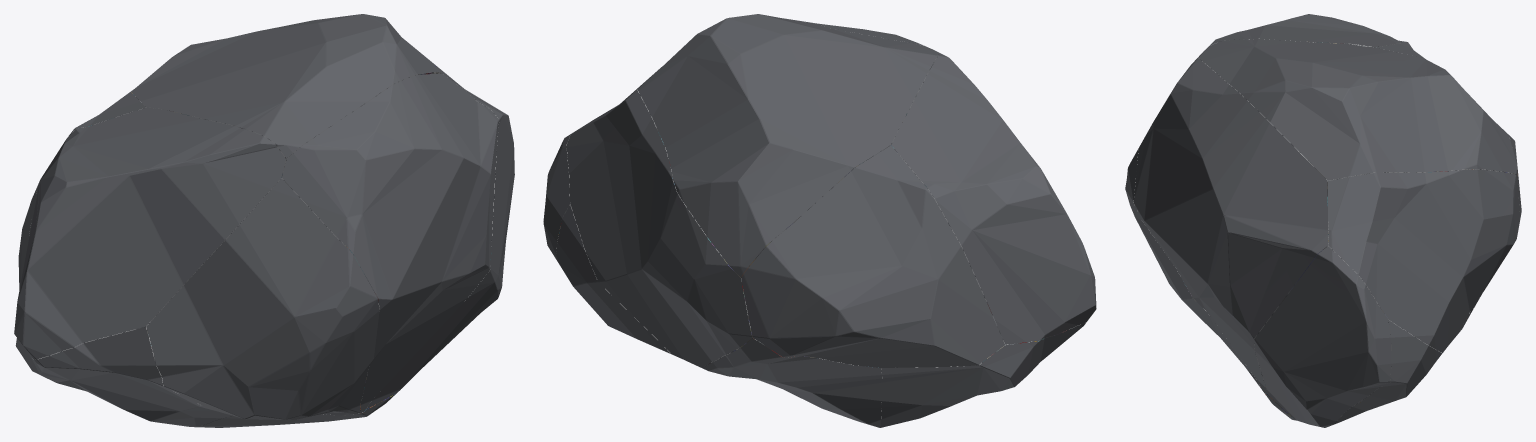
File: batuKecil2_FRAC.fbx
3 views of the same model, side by side, from view 1: azimuth 30°, elevation 25°; view 2: azimuth 150°, elevation 25°; view 3: azimuth 270°, elevation 25° (orthographic). The views are drawn at different scales.
Visible parts, largest first — view 1: Cube.026_cell, Cube.026_cell.008, Cube.026_cell.007, Cube.026_cell.009, Cube.026_cell.003, Cube.026_cell.005, Cube.026_cell.006, Cube.026_cell.002; view 2: Cube.026_cell.009, Cube.026_cell.006, Cube.026_cell, Cube.026_cell.004, Cube.026_cell.003, Cube.026_cell.002, Cube.026_cell.001, Cube.026_cell.005, Cube.026_cell.008; view 3: Cube.026_cell.008, Cube.026_cell.009, Cube.026_cell.004, Cube.026_cell.005, Cube.026_cell.001, Cube.026_cell, Cube.026_cell.007, Cube.026_cell.006.
Part boxes in pixels (<box>): Cube.026_cell: <box>14,107,286,359</box>; Cube.026_cell.008: <box>279,72,499,412</box>; Cube.026_cell.007: <box>146,178,379,419</box>; Cube.026_cell.009: <box>131,14,442,159</box>; Cube.026_cell.003: <box>15,322,232,426</box>; Cube.026_cell.005: <box>366,108,514,409</box>; Cube.026_cell.006: <box>18,92,145,289</box>; Cube.026_cell.002: <box>194,412,363,427</box>; Cube.026_cell.009: <box>637,14,940,277</box>; Cube.026_cell.006: <box>741,145,1004,367</box>; Cube.026_cell: <box>891,53,1096,344</box>; Cube.026_cell.004: <box>566,83,752,367</box>; Cube.026_cell.003: <box>881,322,1086,427</box>; Cube.026_cell.002: <box>702,338,882,427</box>; Cube.026_cell.001: <box>556,204,759,380</box>; Cube.026_cell.005: <box>543,116,599,258</box>; Cube.026_cell.008: <box>799,20,924,45</box>; Cube.026_cell.008: <box>1133,58,1328,392</box>; Cube.026_cell.009: <box>1198,38,1517,180</box>; Cube.026_cell.004: <box>1328,169,1519,352</box>; Cube.026_cell.005: <box>1254,246,1391,427</box>; Cube.026_cell.001: <box>1265,320,1442,423</box>; Cube.026_cell: <box>1209,14,1403,47</box>; Cube.026_cell.007: <box>1125,148,1260,387</box>; Cube.026_cell.006: <box>1376,41,1521,221</box>.
Size of the model in its own units: 453 by 302 by 315.
